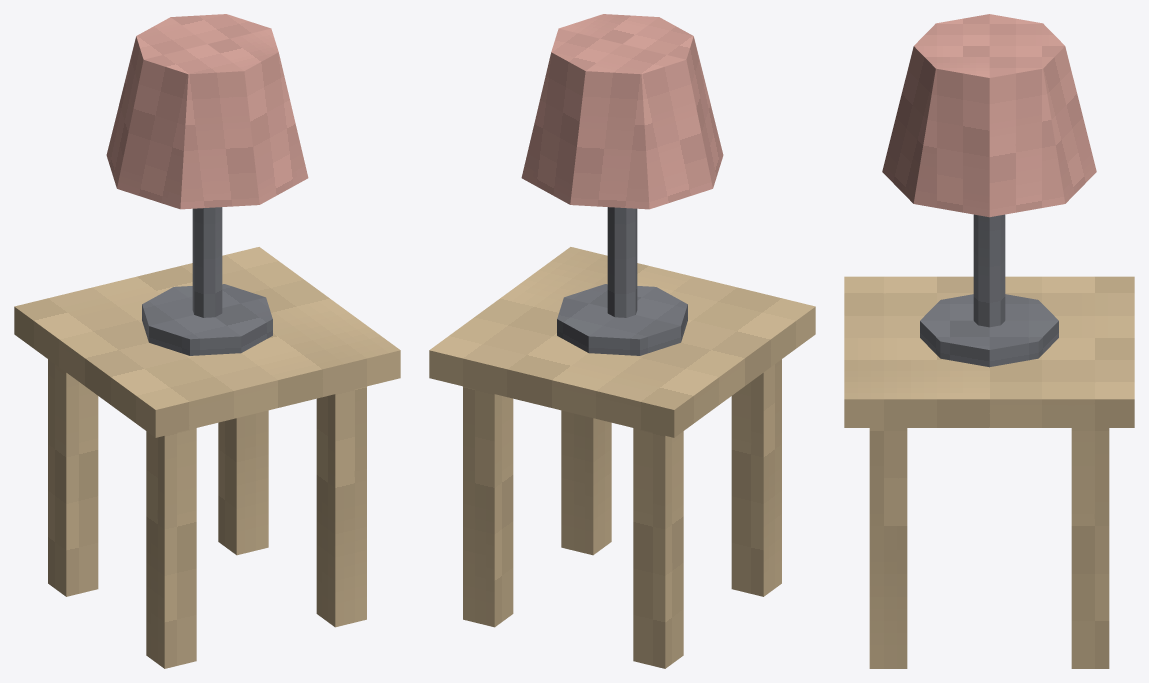
Rendered from pixel-modern-apartments-side-table-with-lamp-818aa777__29827.glb.
3 renders of one model, left to right at view 1: azimuth 30°, elevation 25°; view 2: azimuth 150°, elevation 25°; view 3: azimuth 270°, elevation 25°, orthographic. The views are drawn at different scales.
Parts seen in each view (by area): view 1: side-table-with-lamp; view 2: side-table-with-lamp; view 3: side-table-with-lamp.
Boxes of the visible parts, <box> form: side-table-with-lamp: <box>14,14,400,668</box>; side-table-with-lamp: <box>429,14,815,668</box>; side-table-with-lamp: <box>844,14,1134,668</box>.
Bounding box in the file's own units: 0.46 × 1 × 0.46.
Materials: 3 (3 with a texture image).
